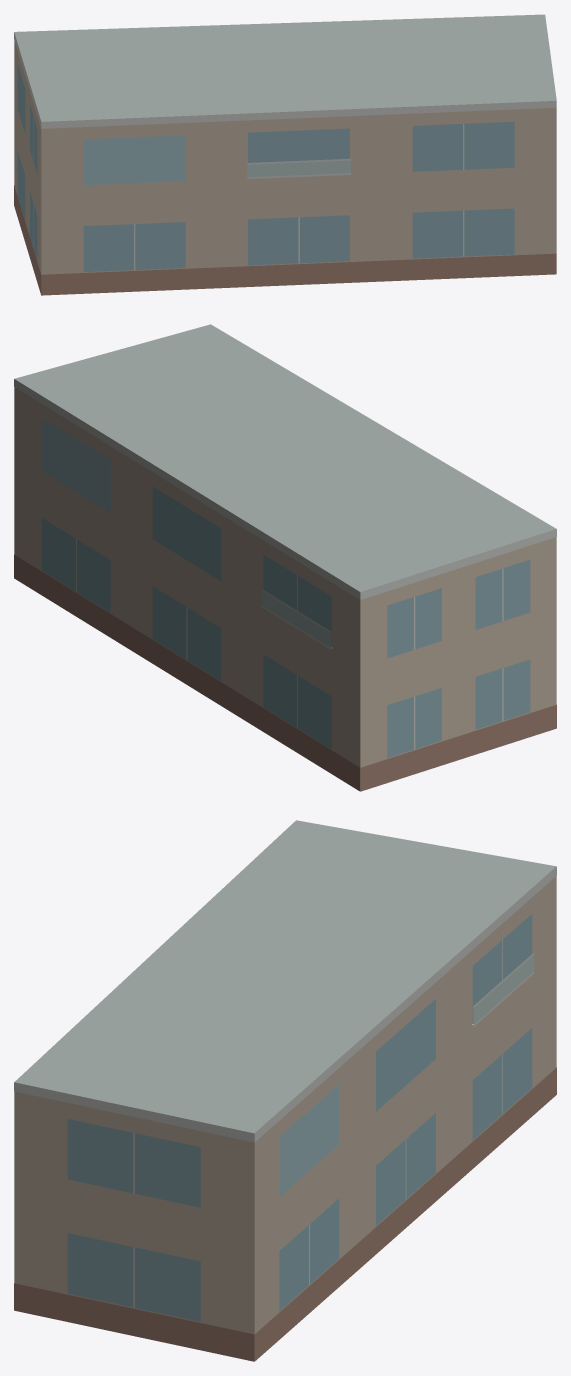
Rendered from survey-upis-32670500.glb.
3 views of the same model, one above another, from view 1: azimuth 30°, elevation 25°; view 2: azimuth 150°, elevation 25°; view 3: azimuth 270°, elevation 25° (orthographic). The views are drawn at different scales.
Parts seen in each view (by area): view 1: survey-upis-32670500.tmp; view 2: survey-upis-32670500.tmp; view 3: survey-upis-32670500.tmp.
Part boxes in pixels (x1,y1,x2,y2): survey-upis-32670500.tmp: [14, 14, 556, 295]; survey-upis-32670500.tmp: [14, 324, 556, 791]; survey-upis-32670500.tmp: [14, 820, 556, 1361].
Size of the model in its own units: 17.96 by 6.1 by 13.15.
